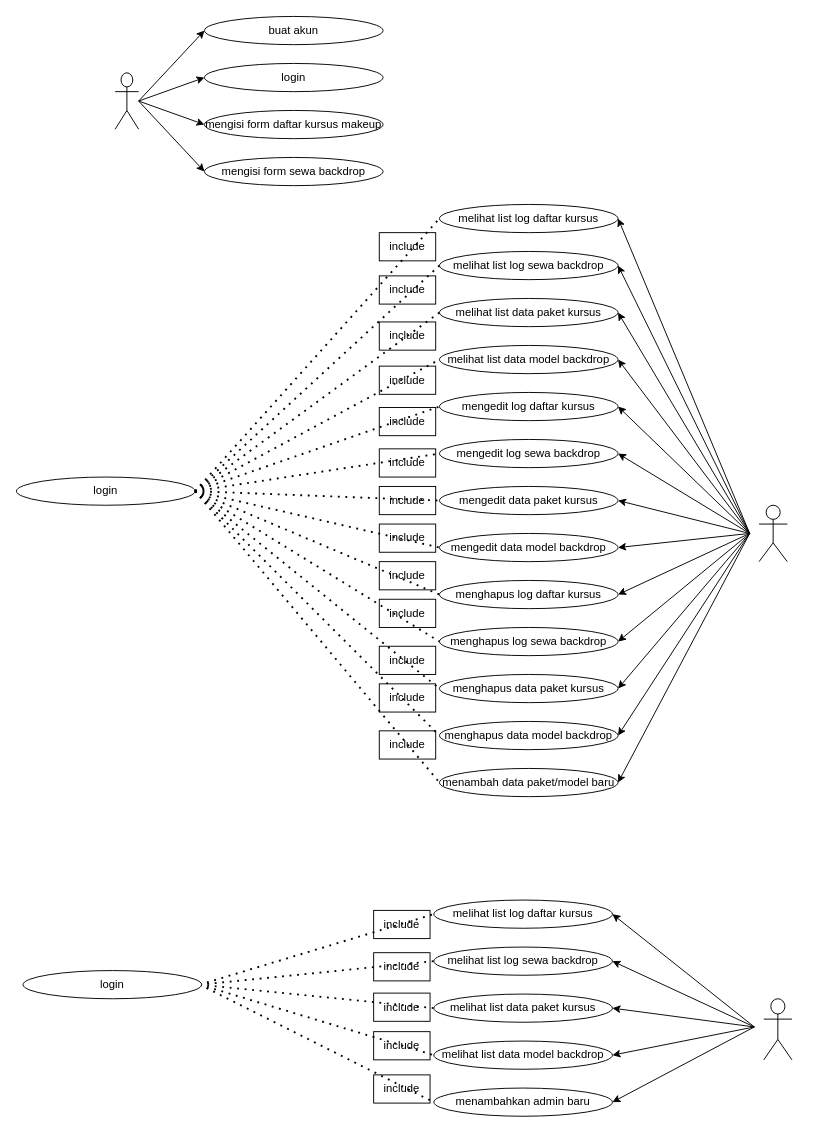
Image size: 825x1133. Some labels were removed from this diagram. The shapes that lost their labels are listed below. From the top down, each one's box as (x1, y1, x2, y2) in pixels, then its label:
(114, 72, 139, 129): user
(758, 504, 787, 562): admin
(763, 998, 792, 1060): super admin
